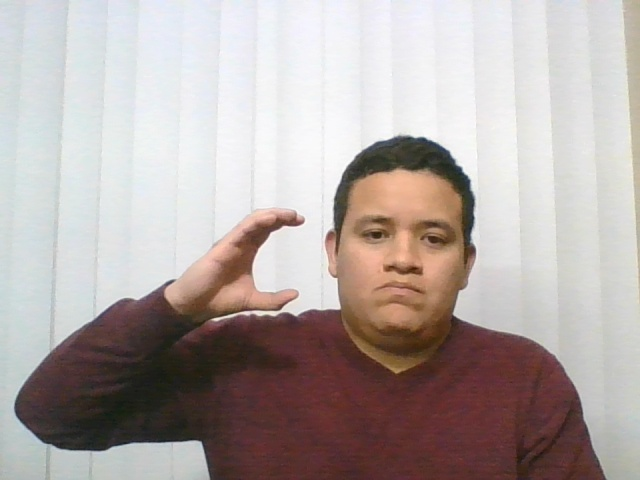Cousin: (156, 196, 332, 337)
